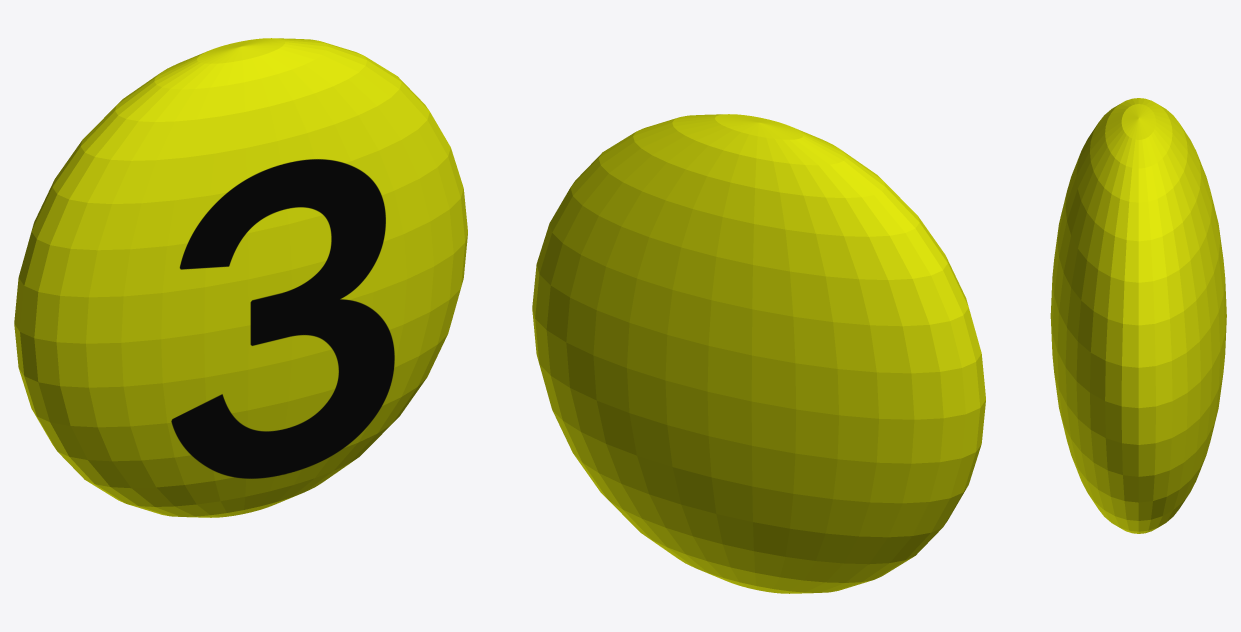
The model's file is numberMark3.glb.
3 views of the same model, side by side, from view 1: azimuth 30°, elevation 25°; view 2: azimuth 150°, elevation 25°; view 3: azimuth 270°, elevation 25° (orthographic). The views are drawn at different scales.
Visible parts, largest first — view 1: Sphere.002, 3; view 2: Sphere.002; view 3: Sphere.002.
Boxes of the visible parts, bbox=[...] form: Sphere.002: bbox=[14, 38, 467, 517]; 3: bbox=[171, 159, 394, 478]; Sphere.002: bbox=[532, 114, 985, 593]; Sphere.002: bbox=[1050, 98, 1226, 533].
Bounding box in the file's own units: 2 × 2.17 × 0.8103.
Materials: 2 (1 with a texture image).
